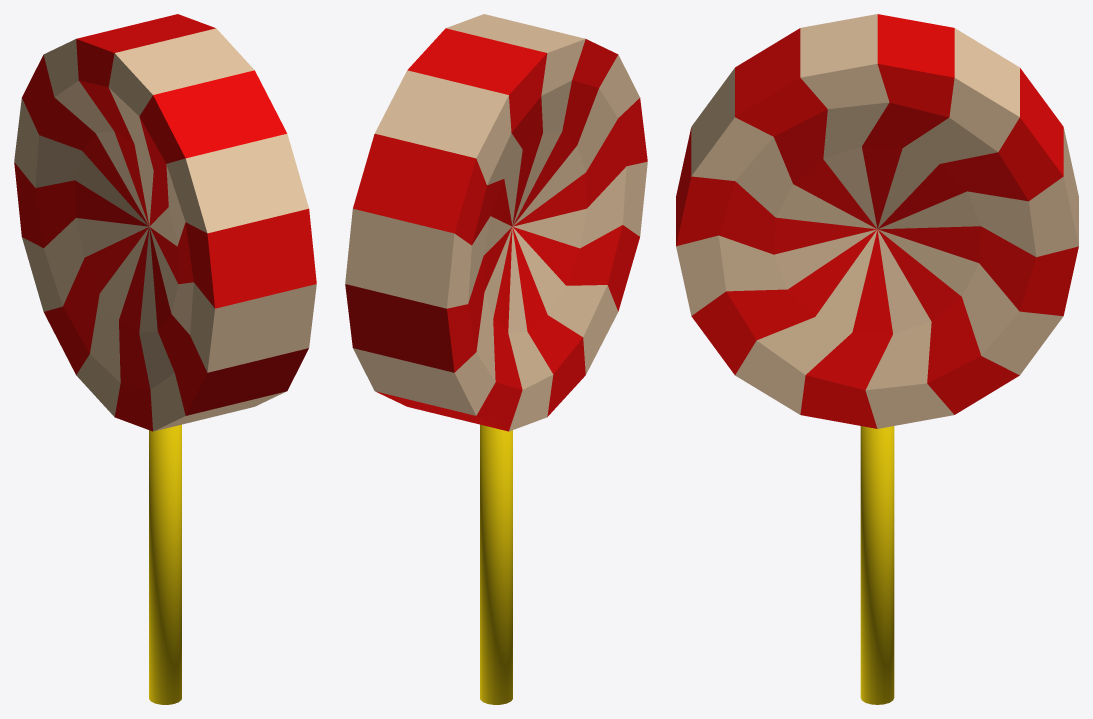
Rendered from Lollipop.fbx.
The picture shows the model from 3 angles, left to right: view 1: azimuth 30°, elevation 25°; view 2: azimuth 150°, elevation 25°; view 3: azimuth 270°, elevation 25°; orthographic projection.
Visible parts, largest first — view 1: Lollipop on stick; view 2: Lollipop on stick; view 3: Lollipop on stick.
Part boxes in pixels (x1=…): Lollipop on stick: x1=14, y1=14, x2=316, y2=704; Lollipop on stick: x1=345, y1=14, x2=647, y2=704; Lollipop on stick: x1=676, y1=14, x2=1078, y2=704.
Bounding box in the file's own units: 108 × 665 × 369.
